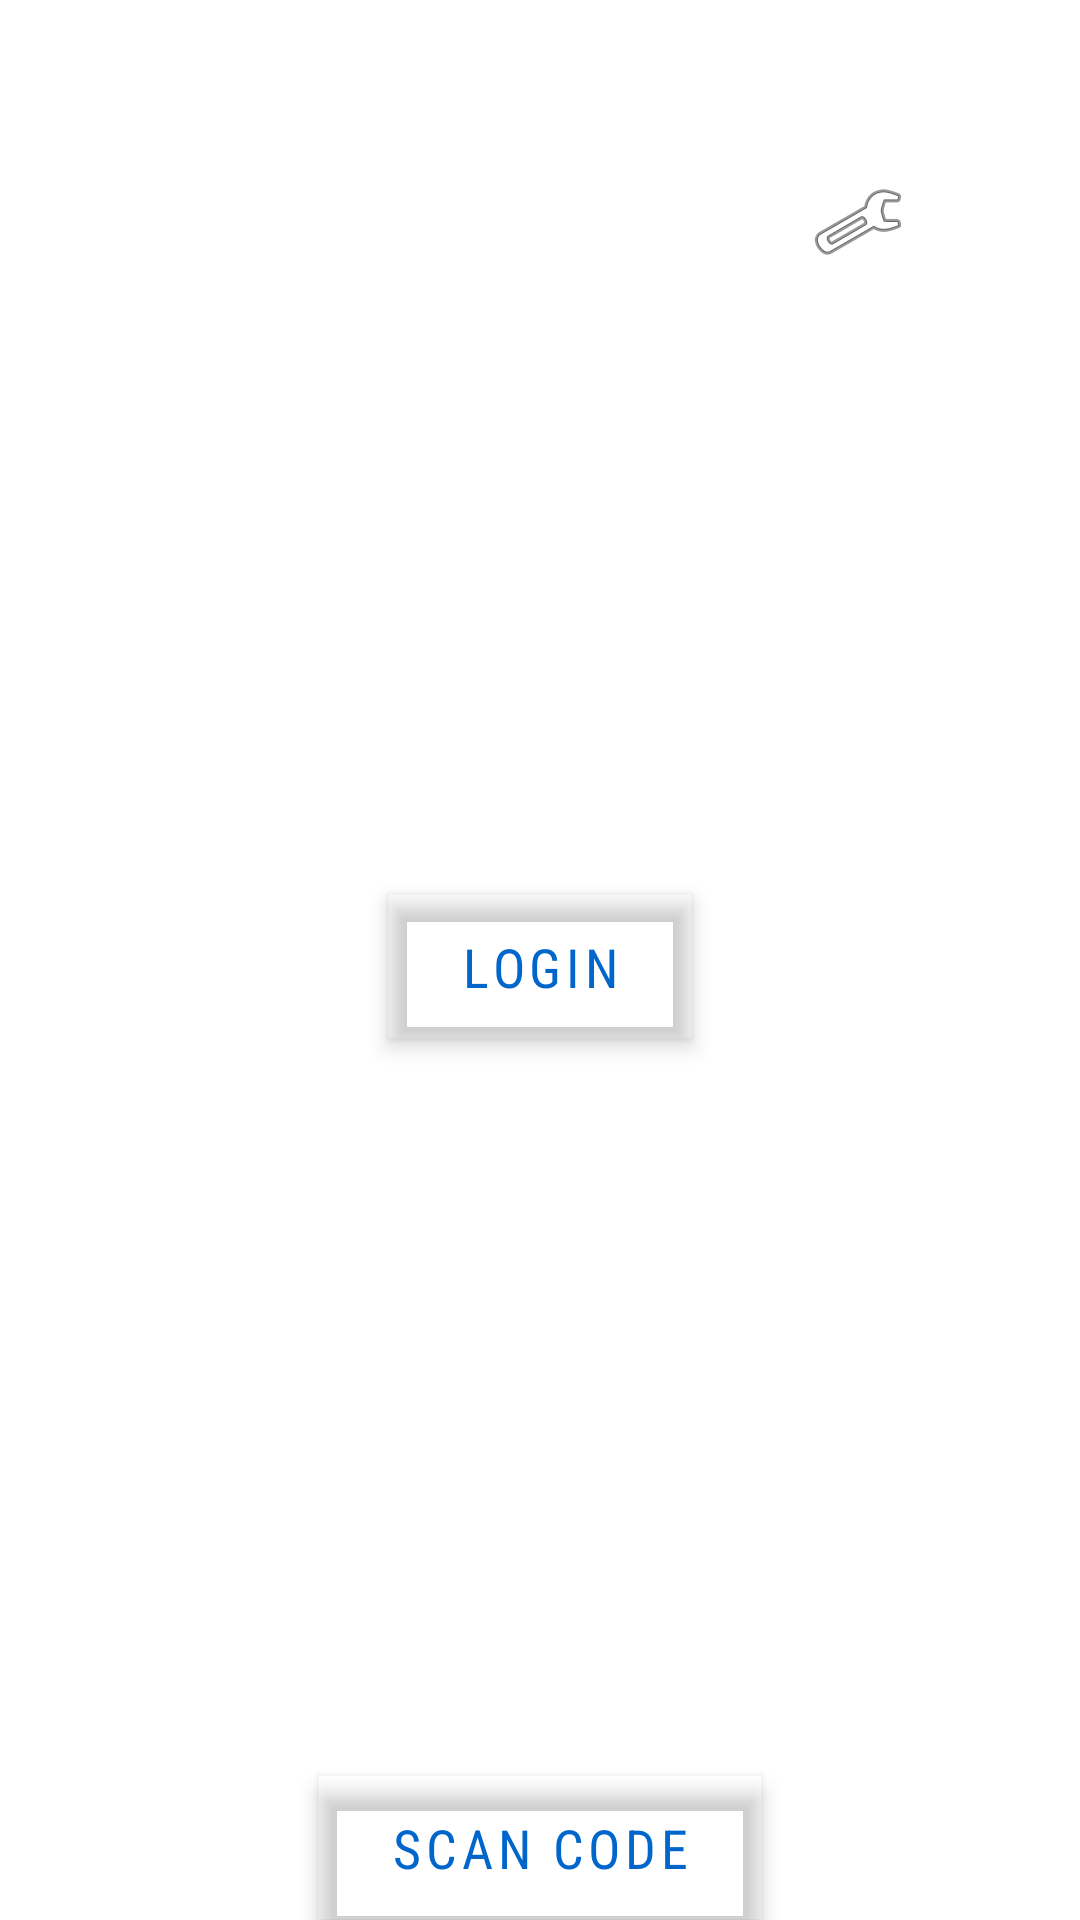

Icon click points for this 1080px x 1920px phone screenshot, format [x,y]:
manage: [858,222]
